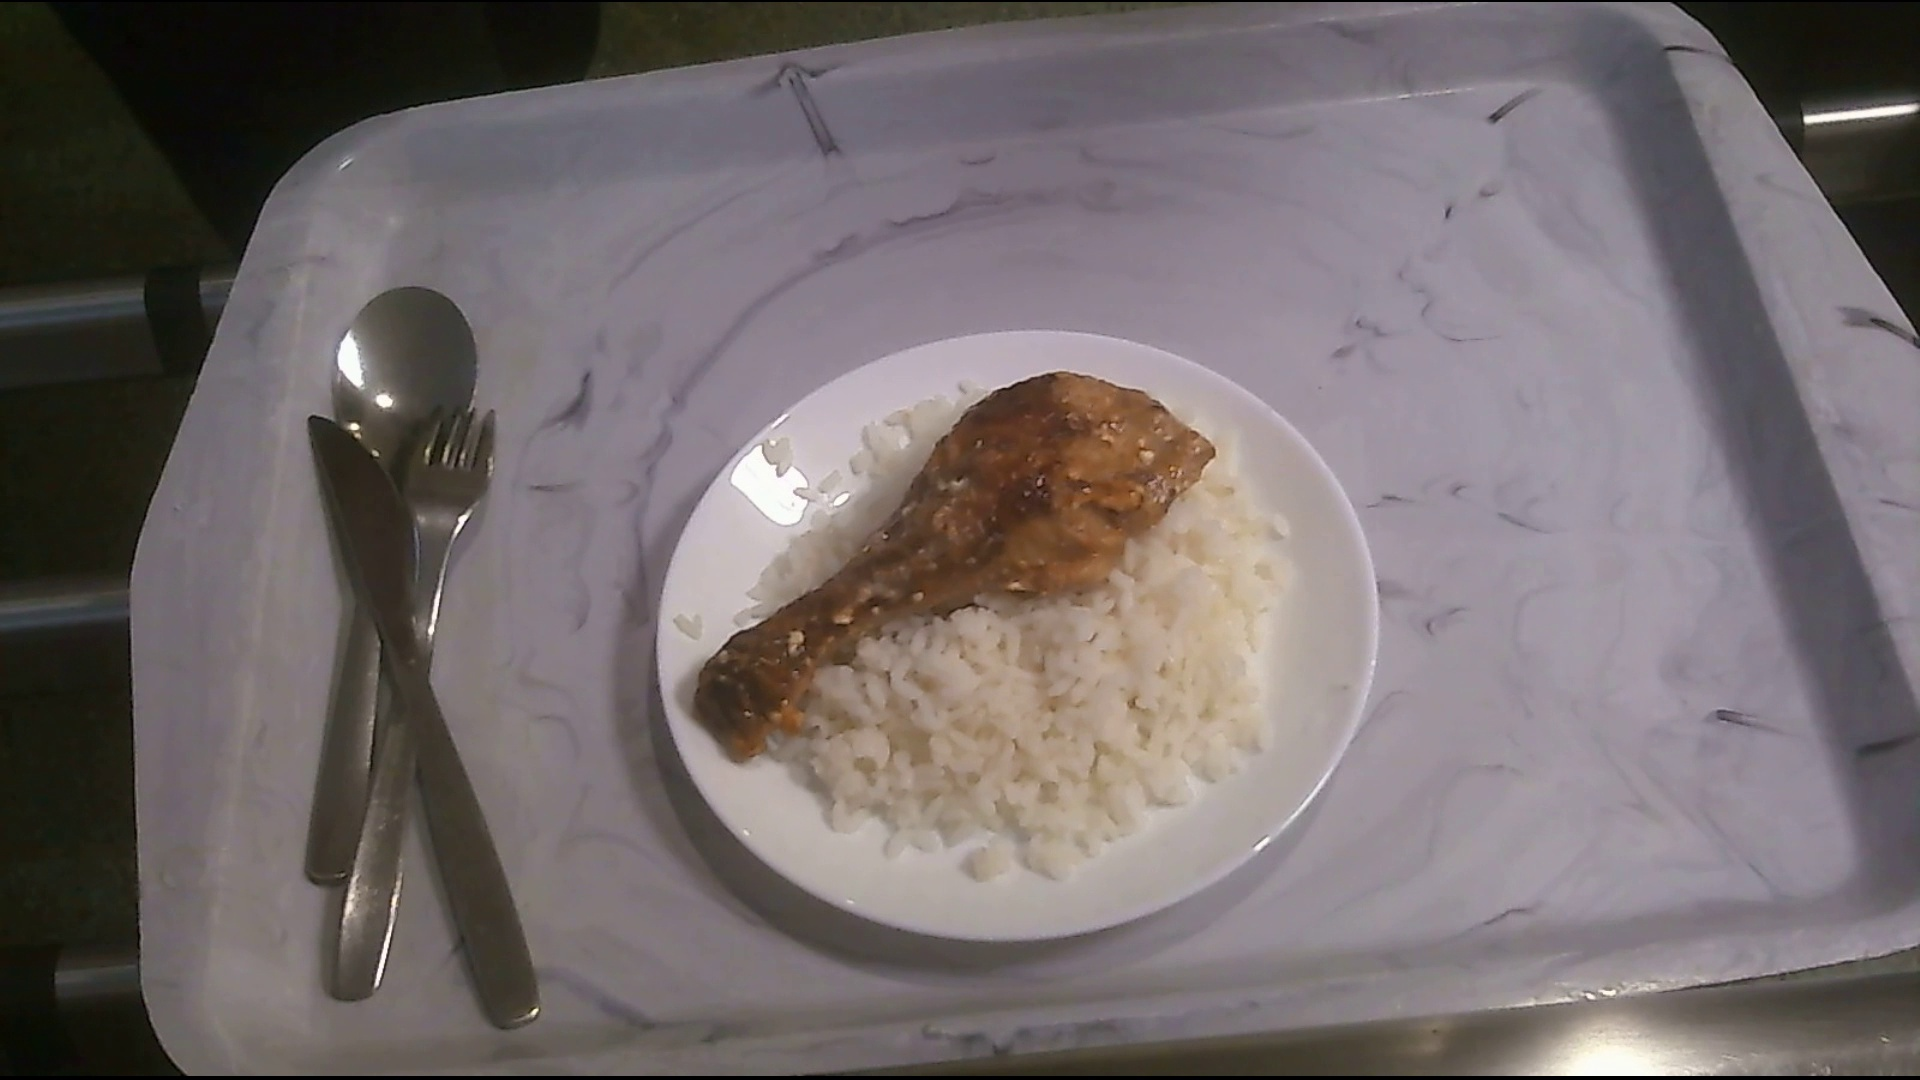cutlery: (299, 280, 562, 1029)
plate: (655, 327, 1390, 939)
